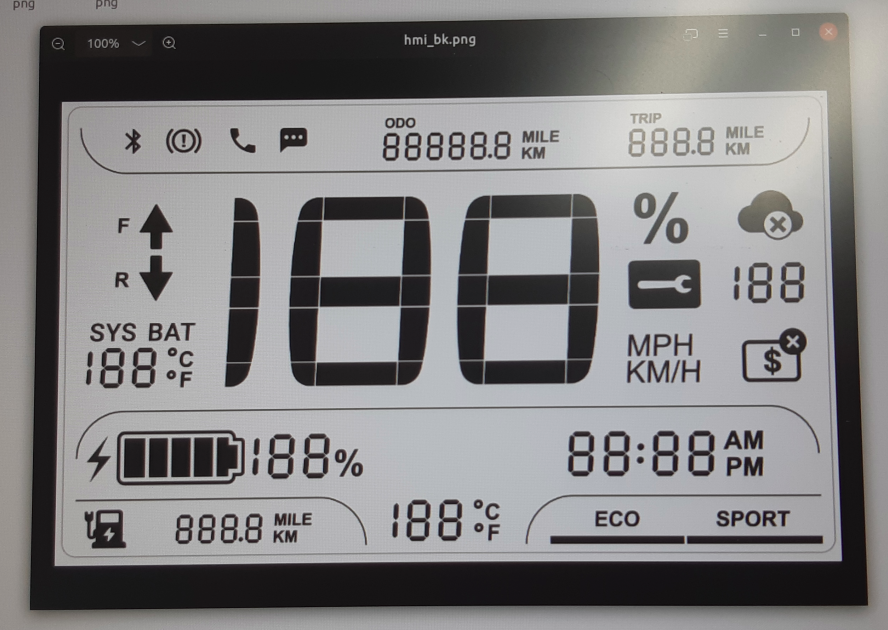bluetooth_on: (118, 125, 147, 157)
braking_on: (164, 125, 204, 157)
calling_on: (226, 123, 260, 157)
connection_lost: (735, 189, 806, 243)
error_code: (625, 256, 703, 312)
low_battery: (81, 505, 130, 551)
sms_on: (276, 124, 310, 158)
vin_id: (741, 326, 809, 385)
